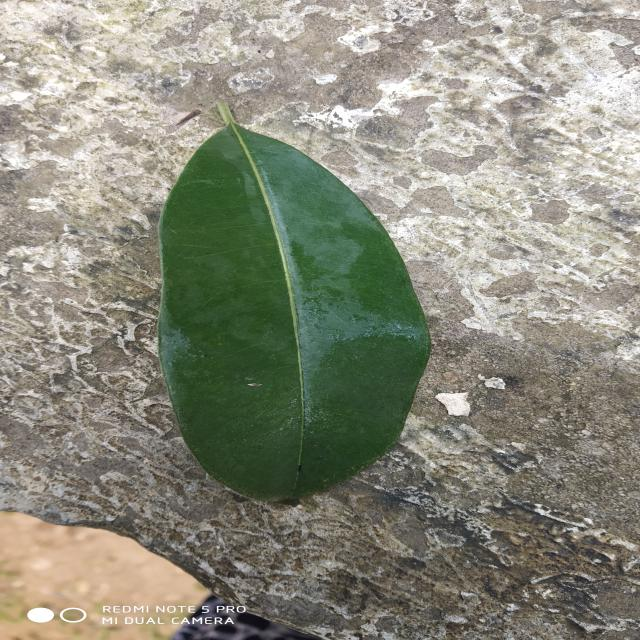sapota: (158, 104, 429, 501)
